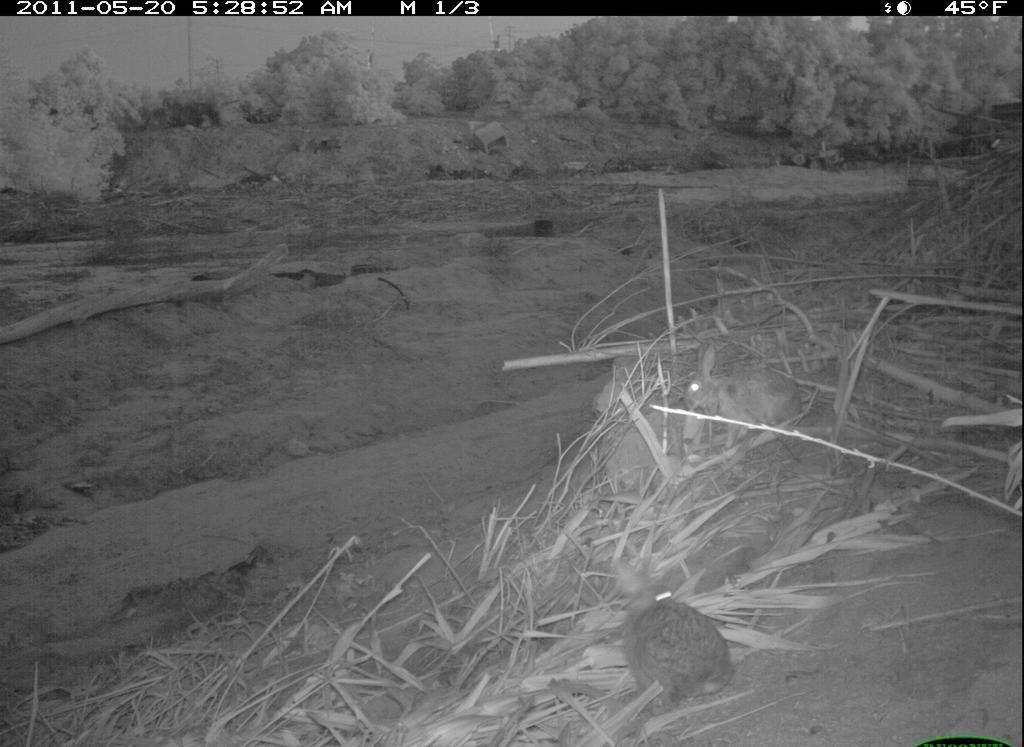rabbit: (605, 553, 739, 708), (678, 337, 831, 457)
